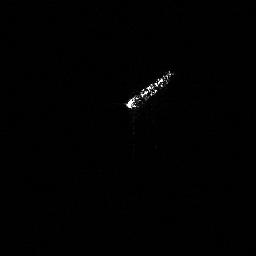ship: (119, 67, 175, 114)
